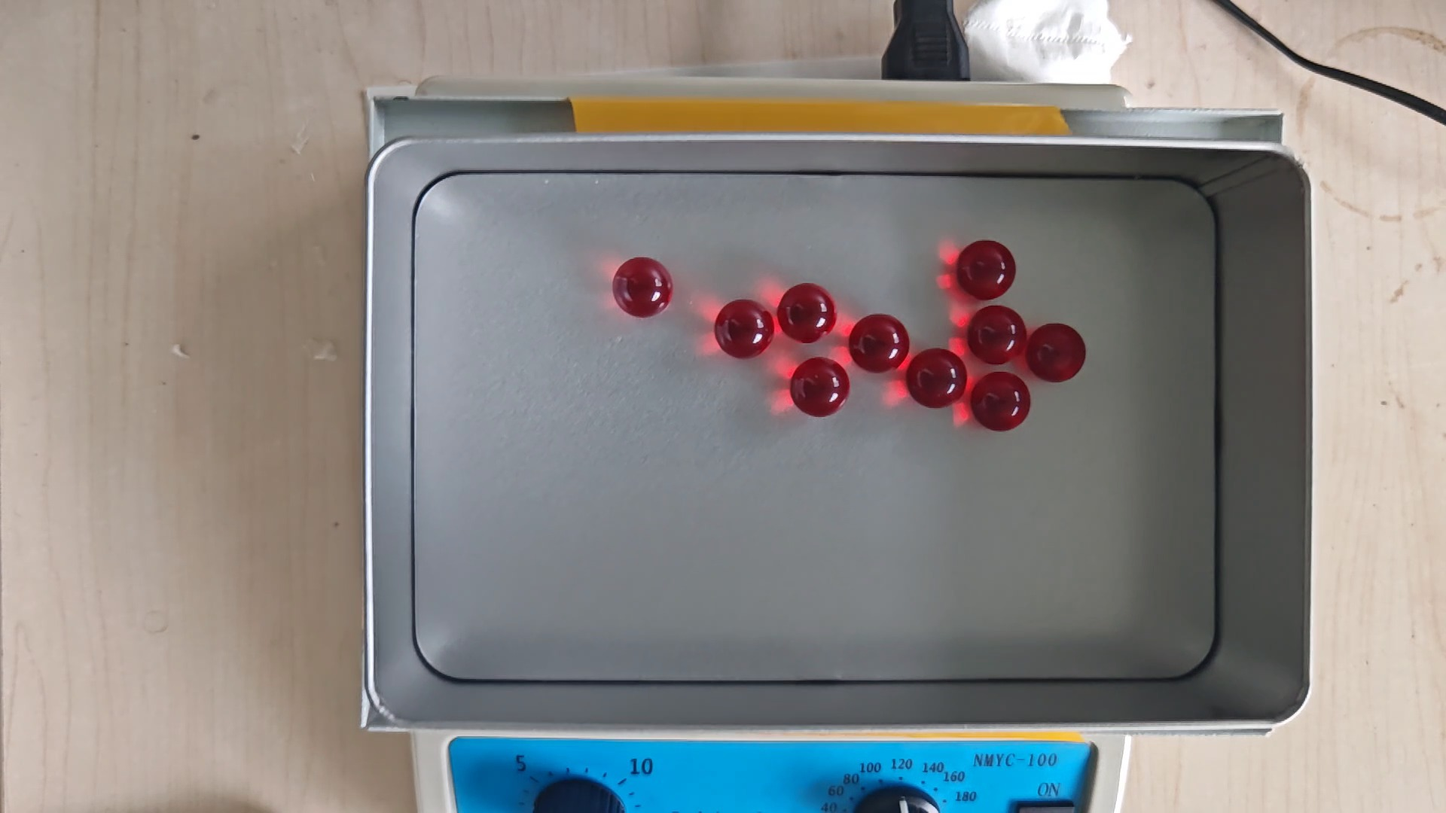ball: (612, 256, 673, 319), (972, 370, 1031, 433), (906, 348, 965, 409), (716, 298, 774, 360), (790, 357, 849, 417), (849, 314, 908, 374), (957, 239, 1015, 300), (1027, 323, 1086, 382), (968, 304, 1026, 364), (778, 282, 835, 343)
container: (412, 173, 1217, 682)
